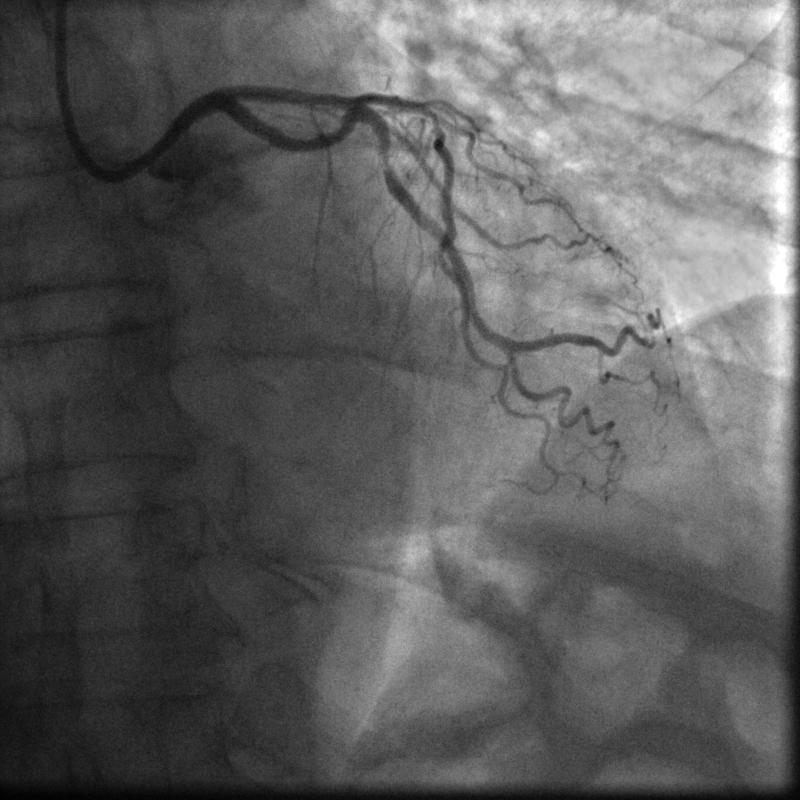Stenosis: (380, 146, 393, 171)
